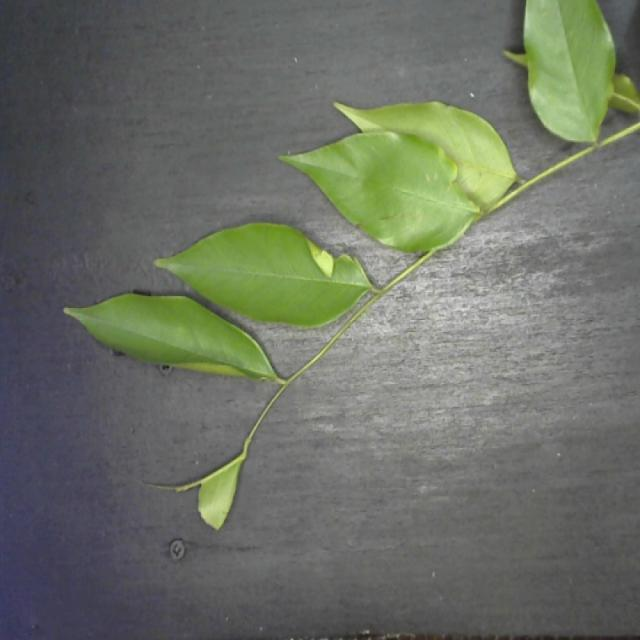biodegradable: (59, 0, 640, 536)
